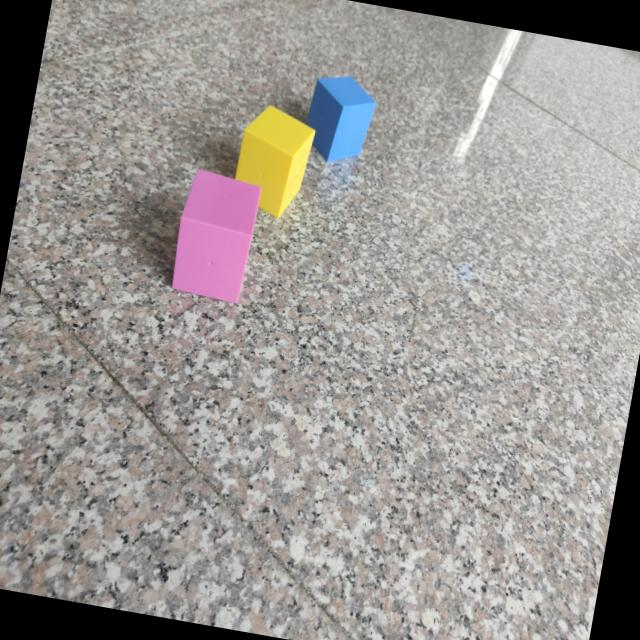blue: (305, 76, 376, 165)
pink: (170, 169, 261, 304)
yellow: (233, 107, 315, 219)
